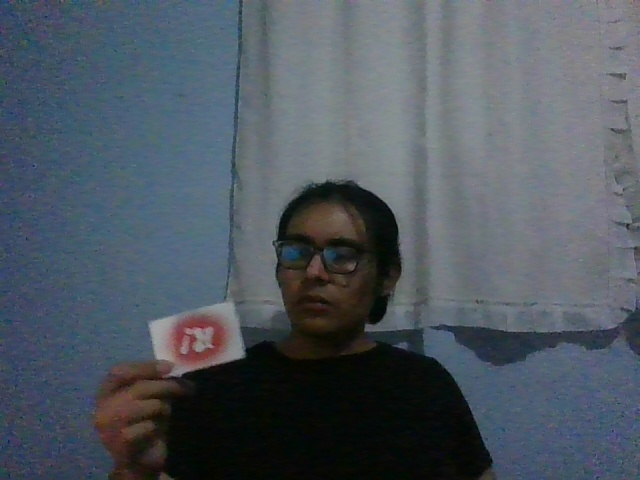tarjeta: (147, 300, 247, 379)
